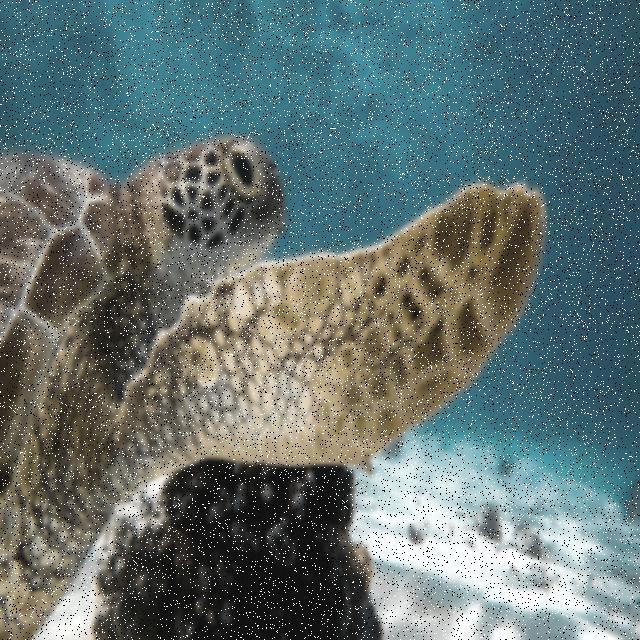tortoise: (0, 134, 562, 640)
